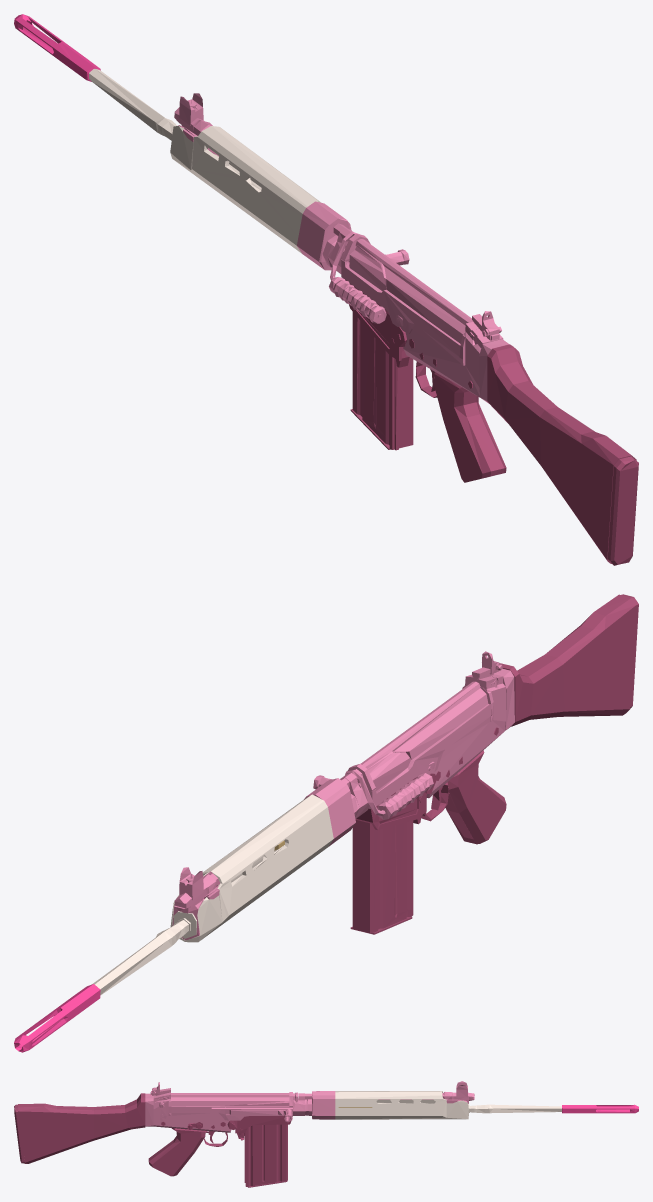
The model's file is BattleRifle_FAL.obj.
The picture shows the model from 3 angles, top to bottom: view 1: azimuth 30°, elevation 25°; view 2: azimuth 150°, elevation 25°; view 3: azimuth 270°, elevation 25°; orthographic projection. The views are drawn at different scales.
Visible parts, largest first — view 1: Body, Grip, Mag, Panel, Accent; view 2: Body, Mag, Grip, Panel, Accent; view 3: Body, Grip, Mag, Panel, Accent.
Part boxes in pixels (bbox=[...]): Body: bbox=[174, 93, 509, 403]; Grip: bbox=[468, 344, 638, 565]; Mag: bbox=[345, 280, 506, 482]; Panel: bbox=[89, 69, 320, 253]; Accent: bbox=[14, 14, 100, 81]; Body: bbox=[172, 651, 514, 940]; Mag: bbox=[350, 750, 506, 934]; Grip: bbox=[494, 594, 638, 735]; Panel: bbox=[92, 794, 333, 995]; Accent: bbox=[14, 984, 100, 1052]; Body: bbox=[145, 1081, 474, 1132]; Grip: bbox=[14, 1093, 165, 1163]; Mag: bbox=[148, 1116, 292, 1187]; Panel: bbox=[335, 1091, 561, 1119]; Accent: bbox=[562, 1104, 638, 1113].
Bounding box in the file's own units: 0.2672 × 0.668 × 3.7.
